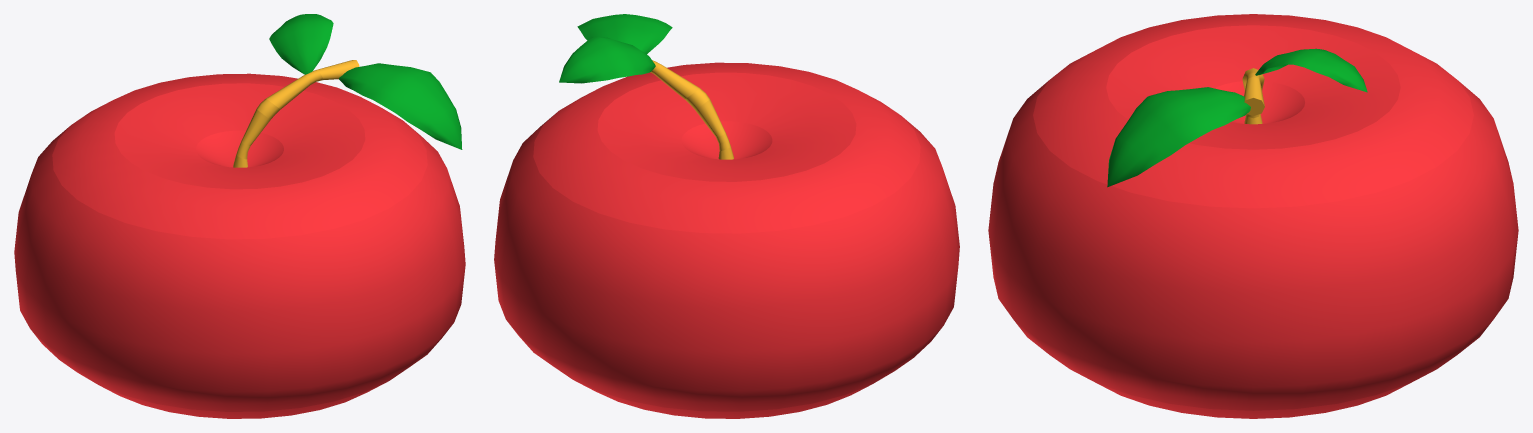
The model's file is apple.glb.
The picture shows the model from 3 angles, left to right: view 1: azimuth 30°, elevation 25°; view 2: azimuth 150°, elevation 25°; view 3: azimuth 270°, elevation 25°; orthographic projection. The views are drawn at different scales.
Visible parts, largest first — view 1: Cylinder; view 2: Cylinder; view 3: Cylinder.
Part boxes in pixels (left/top/right/bottom): Cylinder: left=14, top=14, right=465, bottom=418; Cylinder: left=494, top=14, right=959, bottom=418; Cylinder: left=988, top=14, right=1518, bottom=418.
Bounding box in the file's own units: 2 × 1.54 × 2.
Materials: 1 (1 with a texture image).
